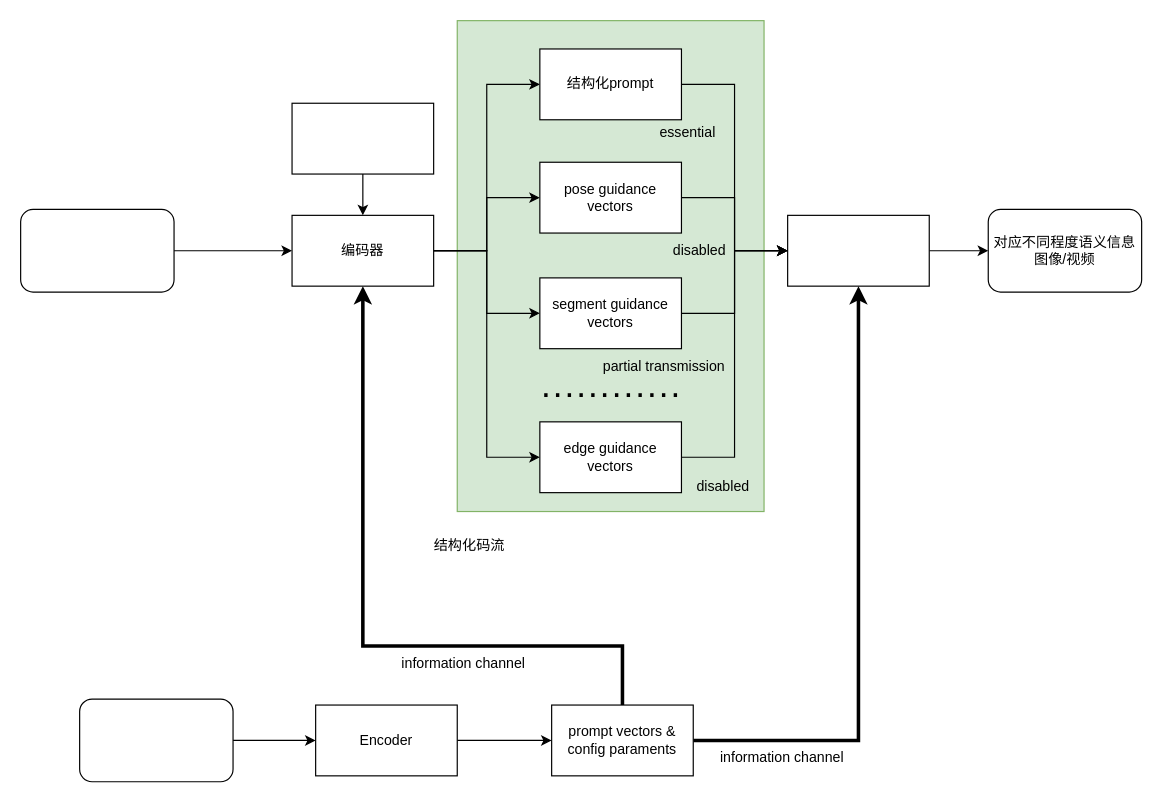
Image size: 1162x802. Some labels were removed from this diagram. The box of each missing label's shape, as (x1, y1, x2, y2) in pixels:
prompt receiver & decoder: (291, 102, 434, 174)
原始语义信息 图像/视频: (19, 208, 174, 292)
生成式解码器: (786, 214, 929, 286)
用户prompt 用户需求参数: (78, 698, 233, 782)
